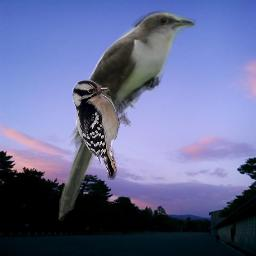Cuckoo: (52, 9, 196, 224)
Woodpecker: (72, 80, 131, 180)
